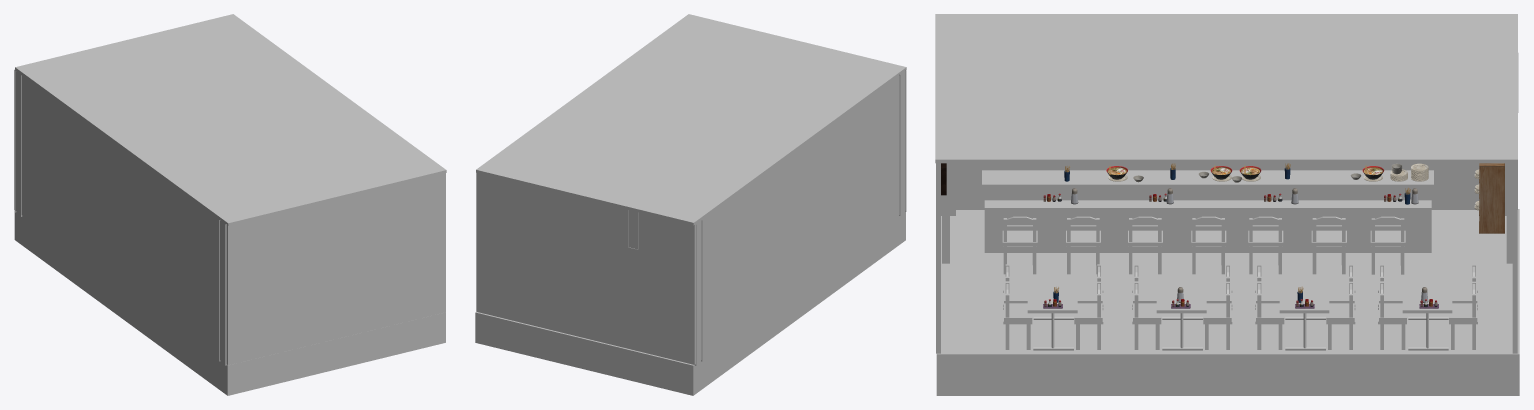
File: liquor store01.fbx
3 views of the same model, side by side, from view 1: azimuth 30°, elevation 25°; view 2: azimuth 150°, elevation 25°; view 3: azimuth 270°, elevation 25° (orthographic). The views are drawn at different scales.
Parts seen in each view (by area): view 1: Cube.049, Cube.056, Cube.005, Cube.055; view 2: Cube.049, Cube.005, Cube.051, Cube.055, Cube.002, Cube.007; view 3: Cube.049, Cube.055, Cube, Cube.003, Cube.005, Cube.001, Cube.094, Cube.031, Cube.026, Cube.036, Cube.092, Cube.021 (+21 smaller).
Part boxes in pixels (x1,y1,x2,y2): Cube.049: (15,14,446,225); Cube.056: (226,173,445,365); Cube.005: (14,69,226,364); Cube.055: (14,210,445,395); Cube.049: (476,14,906,225); Cube.005: (691,71,905,364); Cube.051: (476,173,691,363); Cube.055: (475,211,905,395); Cube.002: (899,70,906,215); Cube.007: (695,220,702,365); Cube.049: (935,14,1517,163); Cube.055: (936,209,1519,395); Cube: (984,188,1431,252); Cube.003: (982,170,1433,188); Cube.005: (956,163,1517,209); Cube.001: (984,200,1431,212); Cube.094: (1027,275,1077,350); Cube.031: (1279,275,1329,350); Cube.026: (1156,275,1206,350); Cube.036: (1402,275,1452,350); Cube.092: (1479,163,1504,233); Cube.021: (1311,216,1346,274).
Size of the model in its own units: 163 by 123 by 275.
